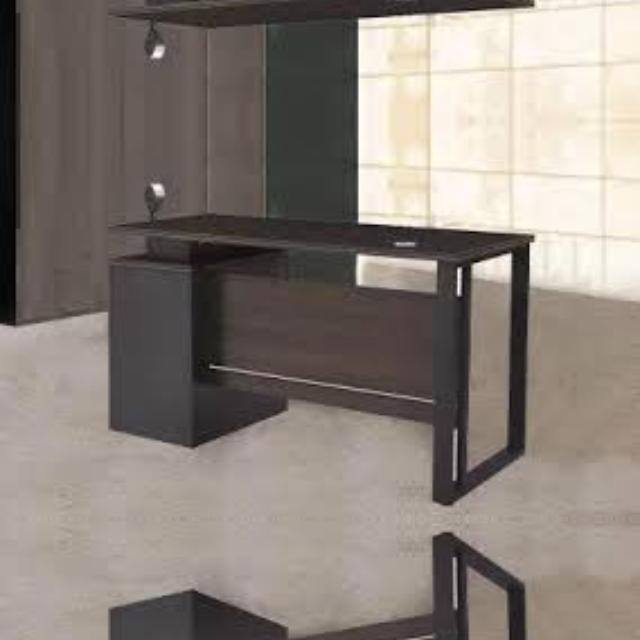obstacle: (92, 156, 578, 510), (92, 527, 578, 640), (92, 0, 578, 84)
